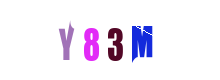3: (75, 0, 155, 80)
8: (69, 0, 149, 80)
M: (101, 0, 181, 80)
Y: (46, 0, 126, 80)
